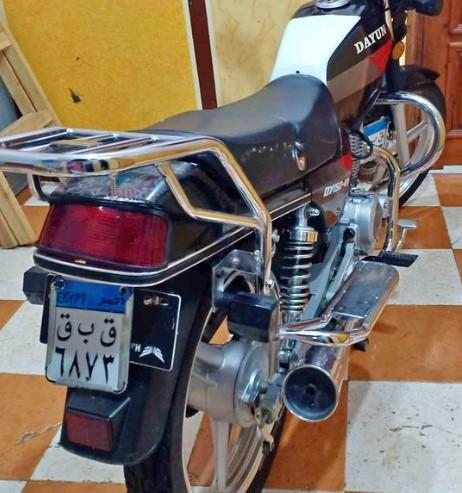License Plate: (50, 274, 135, 392)
